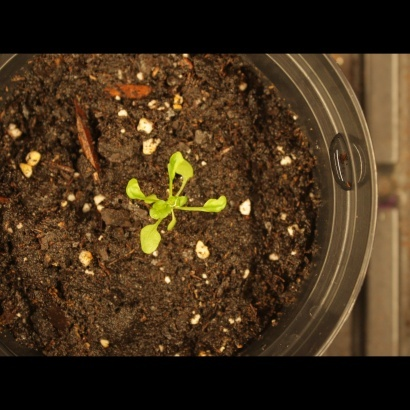leaf: (135, 218, 165, 261), (121, 171, 146, 206), (202, 195, 234, 218), (161, 152, 184, 181), (175, 155, 198, 182), (150, 199, 173, 223), (166, 214, 189, 237), (172, 186, 195, 209)
